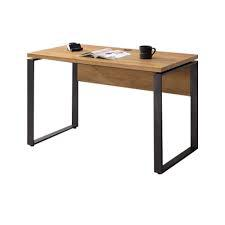desk: (4, 21, 210, 184)
